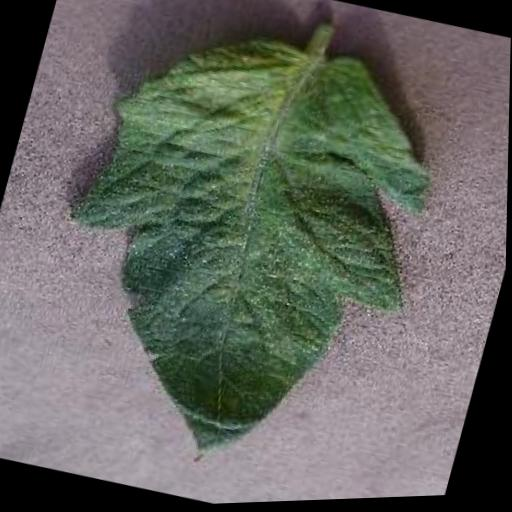Spider Mites: (12, 0, 469, 511)
